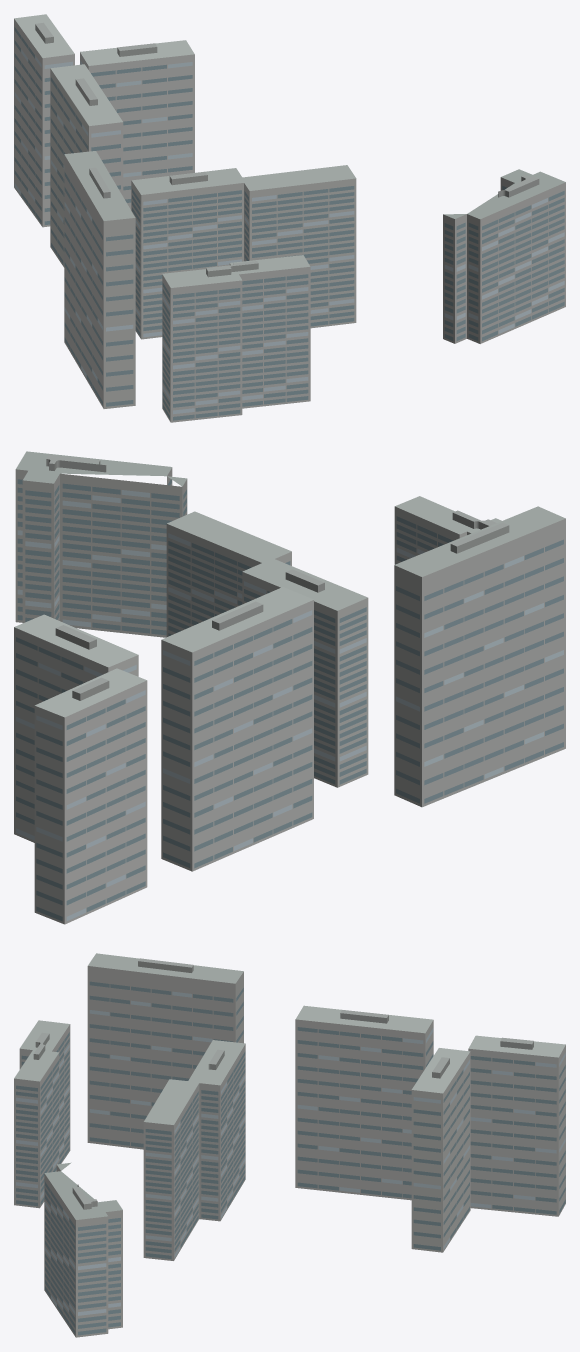
File: apt-a13113004.glb
The picture shows the model from 3 angles, top to bottom: view 1: azimuth 30°, elevation 25°; view 2: azimuth 150°, elevation 25°; view 3: azimuth 270°, elevation 25°; orthographic projection. The views are drawn at different scales.
Visible parts, largest first — view 1: apt-a13113004; view 2: apt-a13113004; view 3: apt-a13113004.
Boxes of the visible parts, x1=… form: apt-a13113004: x1=14, y1=14, x2=565, y2=422; apt-a13113004: x1=14, y1=451, x2=565, y2=924; apt-a13113004: x1=14, y1=953, x2=565, y2=1337.
Size of the model in its own units: 192 by 78.65 by 216.
